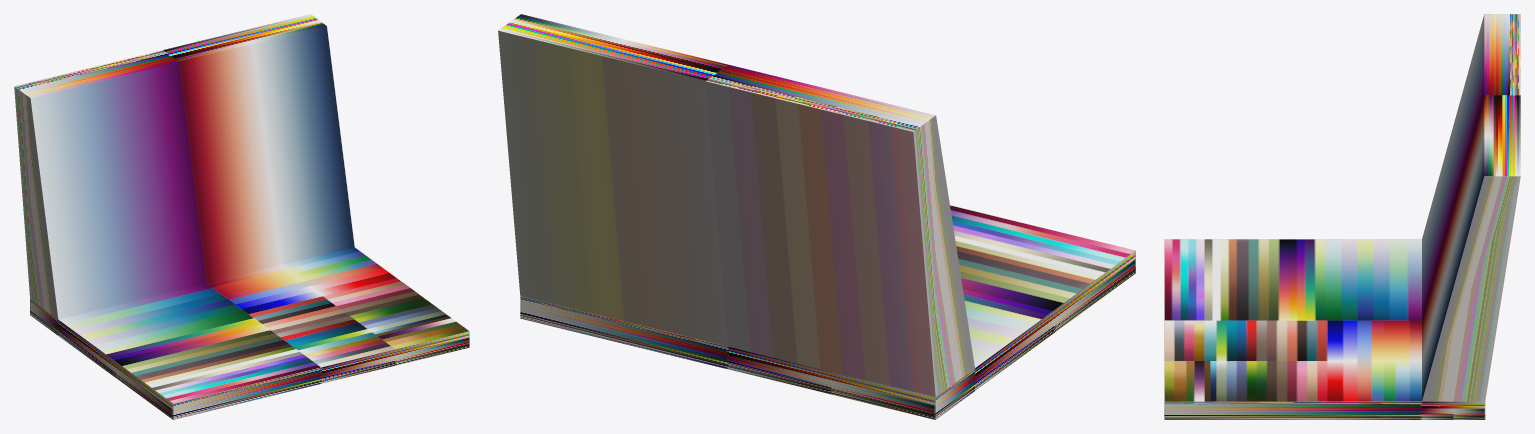
Rendered from CR_sci_notebook_001_Collider.FBX.
3 renders of one model, left to right at view 1: azimuth 30°, elevation 25°; view 2: azimuth 150°, elevation 25°; view 3: azimuth 270°, elevation 25°, orthographic. The views are drawn at different scales.
Parts seen in each view (by area): view 1: CR_sci_notebook_001_Collider; view 2: CR_sci_notebook_001_Collider; view 3: CR_sci_notebook_001_Collider.
Part boxes in pixels (x1,y1,x2,y2): CR_sci_notebook_001_Collider: [14, 14, 469, 419]; CR_sci_notebook_001_Collider: [498, 14, 1135, 419]; CR_sci_notebook_001_Collider: [1164, 14, 1520, 419].
Bounding box in the file's own units: 26.43 × 18.5 × 24.54.
